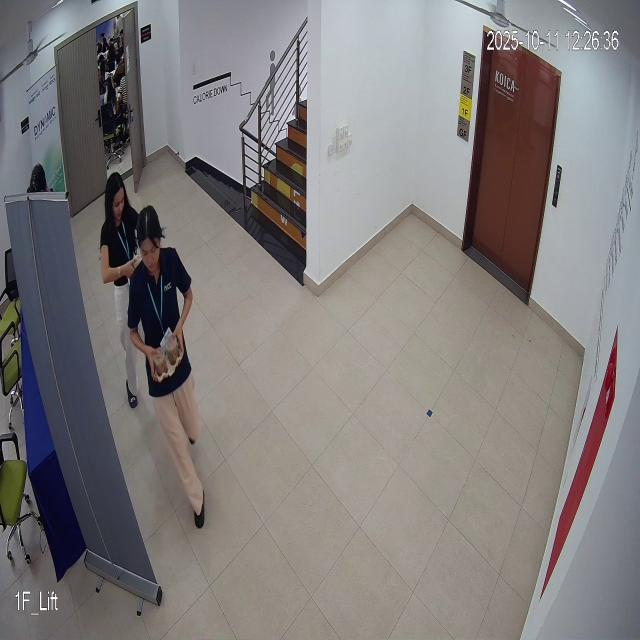face: (130, 196, 166, 278), (106, 169, 129, 229)
